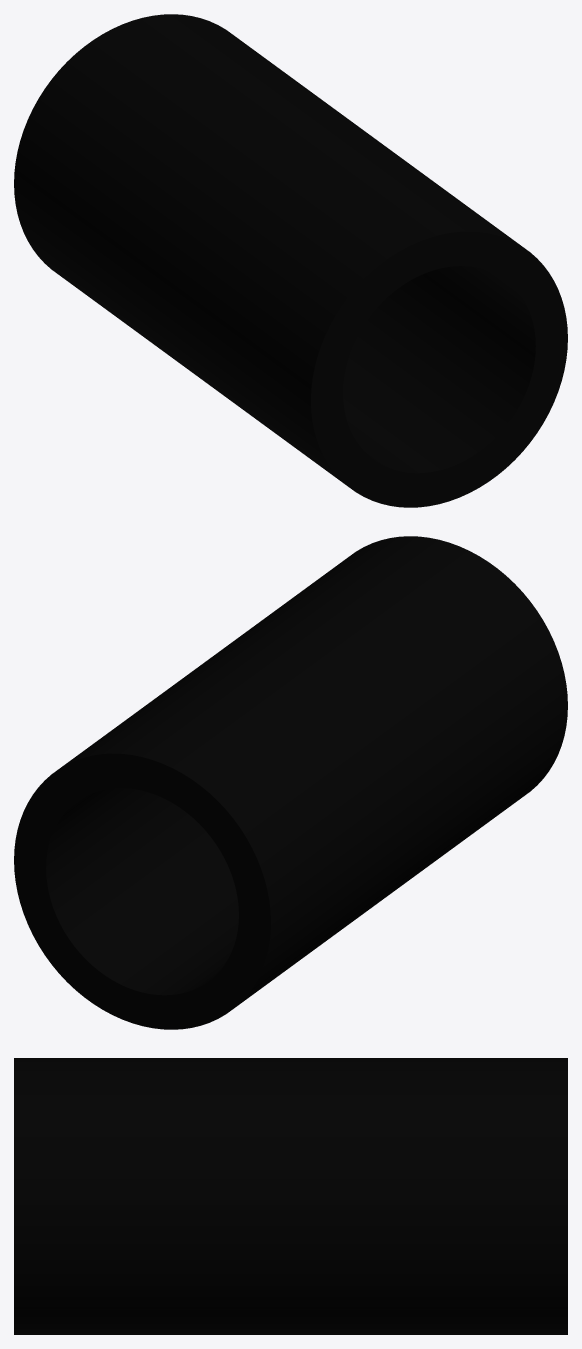
File: Hollow_Cylinder.fbx
3 views of the same model, one above another, from view 1: azimuth 30°, elevation 25°; view 2: azimuth 150°, elevation 25°; view 3: azimuth 270°, elevation 25° (orthographic). The views are drawn at different scales.
Visible parts, largest first — view 1: root; view 2: root; view 3: root.
Boxes of the visible parts, bbox=[...] form: root: bbox=[14, 14, 567, 507]; root: bbox=[14, 536, 567, 1029]; root: bbox=[14, 1058, 567, 1334].
Size of the model in its own units: 0.1 by 0.1 by 0.2.
Materials: 1 (1 with a texture image).
